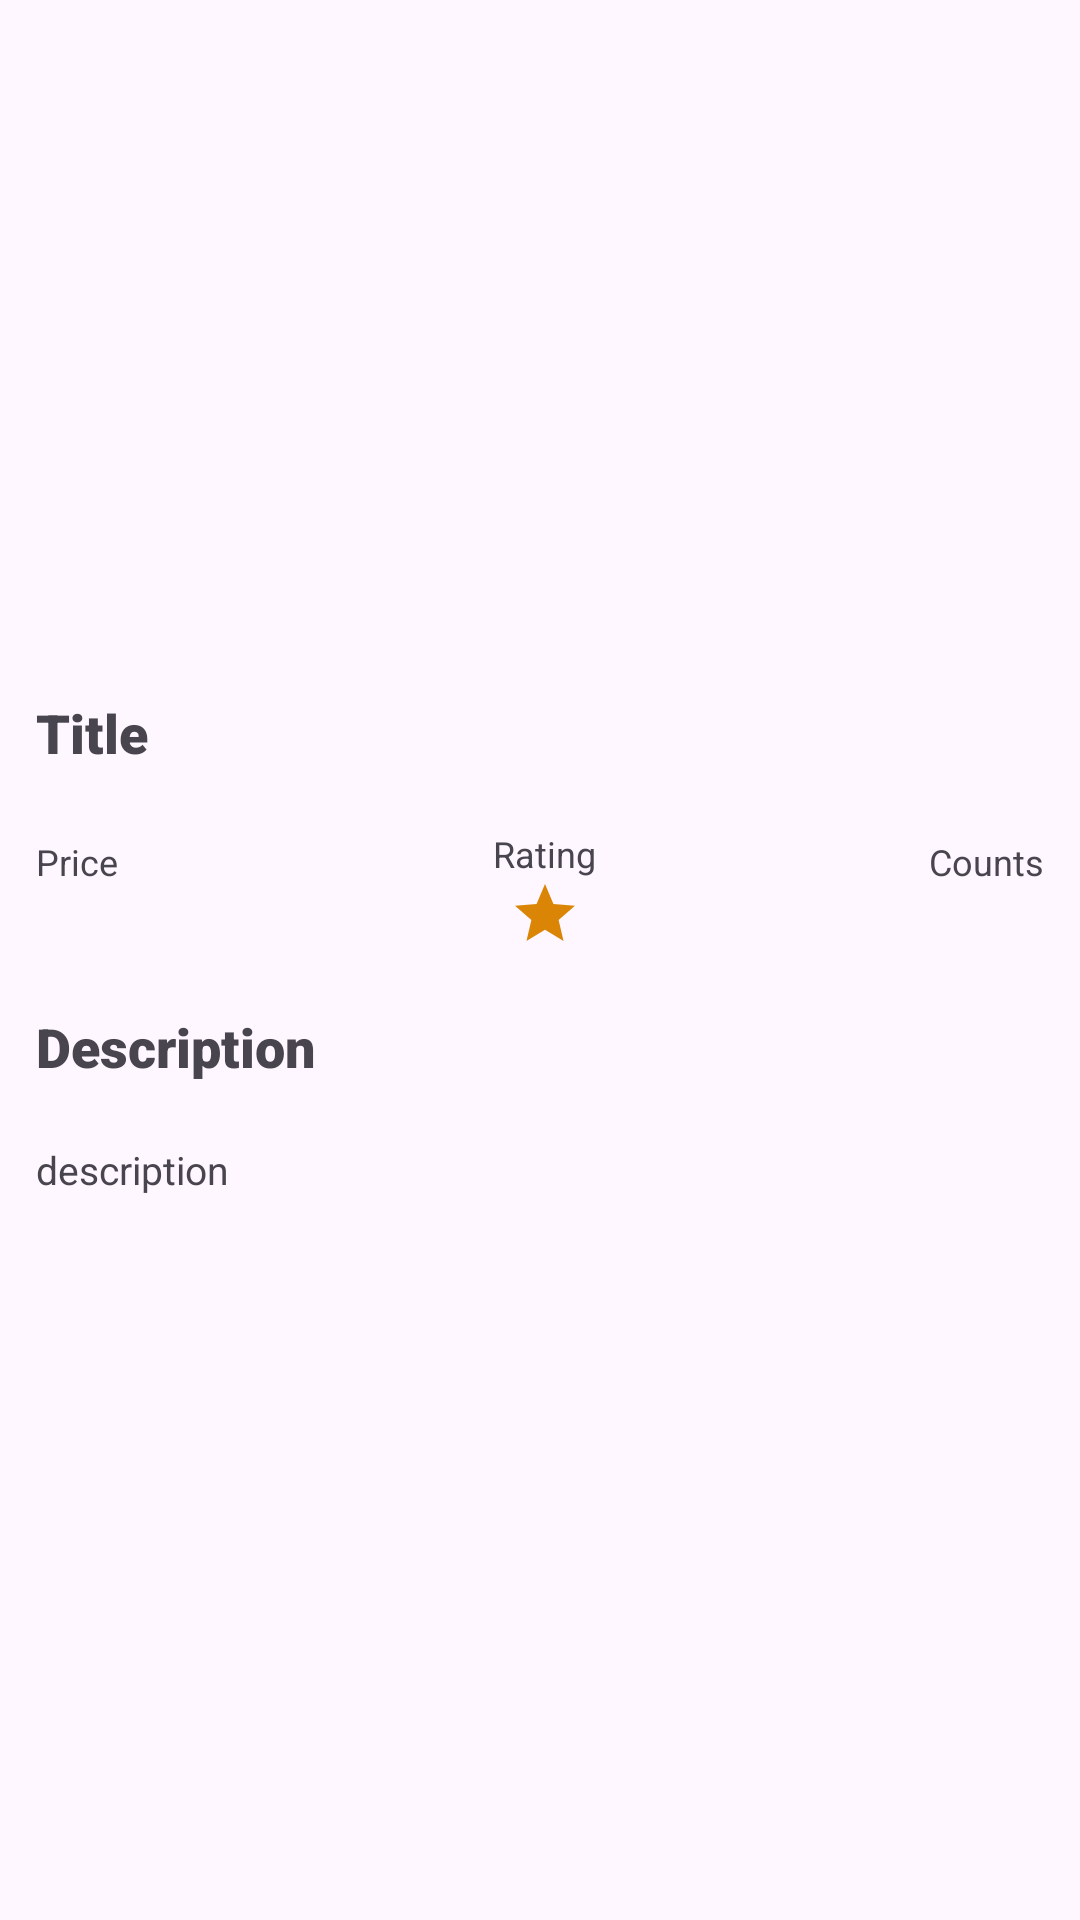

Named icons in this screenshot (1080×1920) and their centers, (x=x, y=y):
star: (x=545, y=912)
